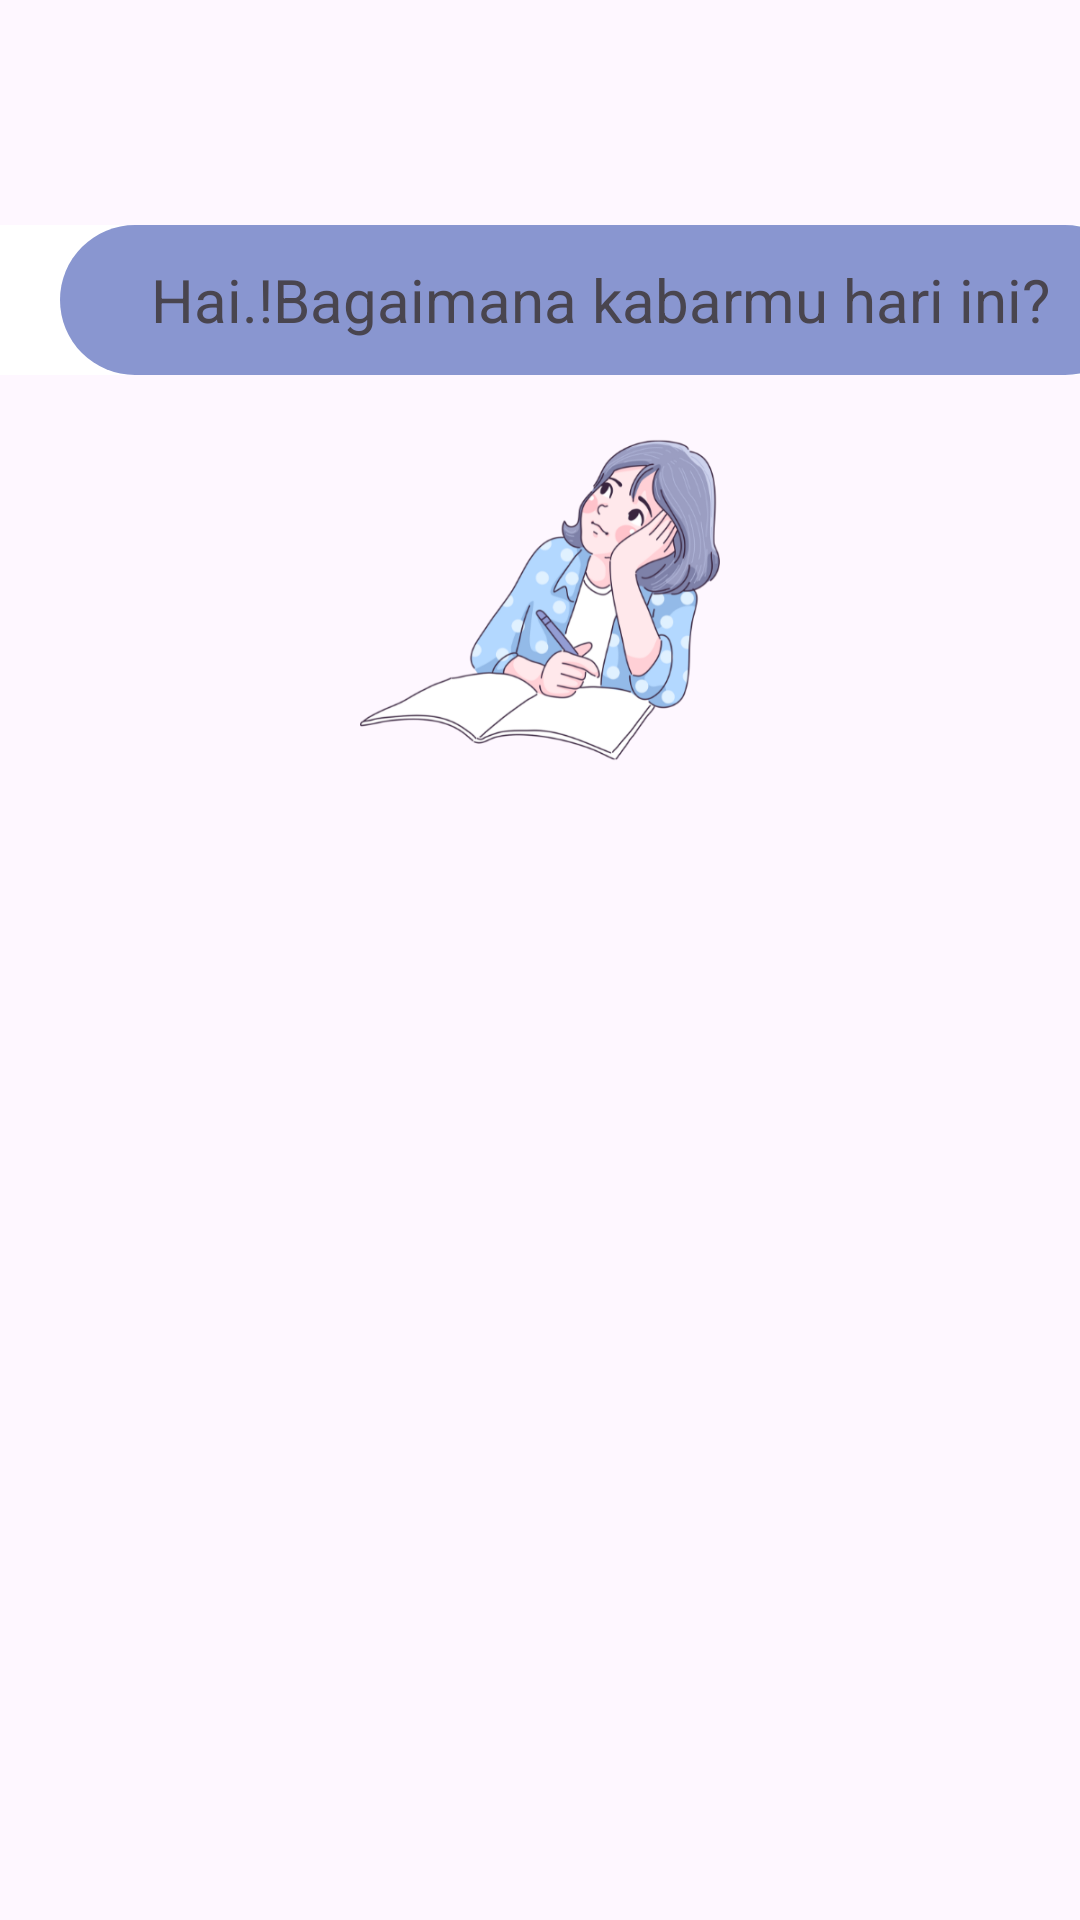

Screen size 1080×1920. Icon name, then its box in pixels as bbox(x1, y1, x2, y2):
cewenulis: bbox(360, 440, 720, 760)
